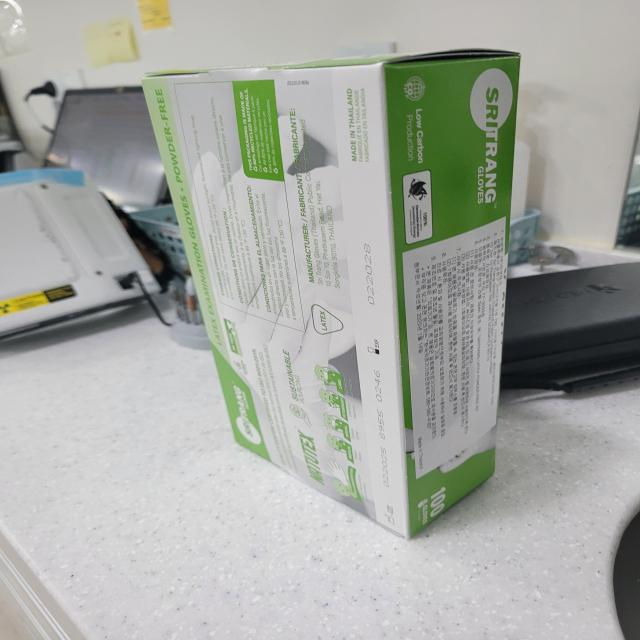glove: (117, 40, 548, 552)
